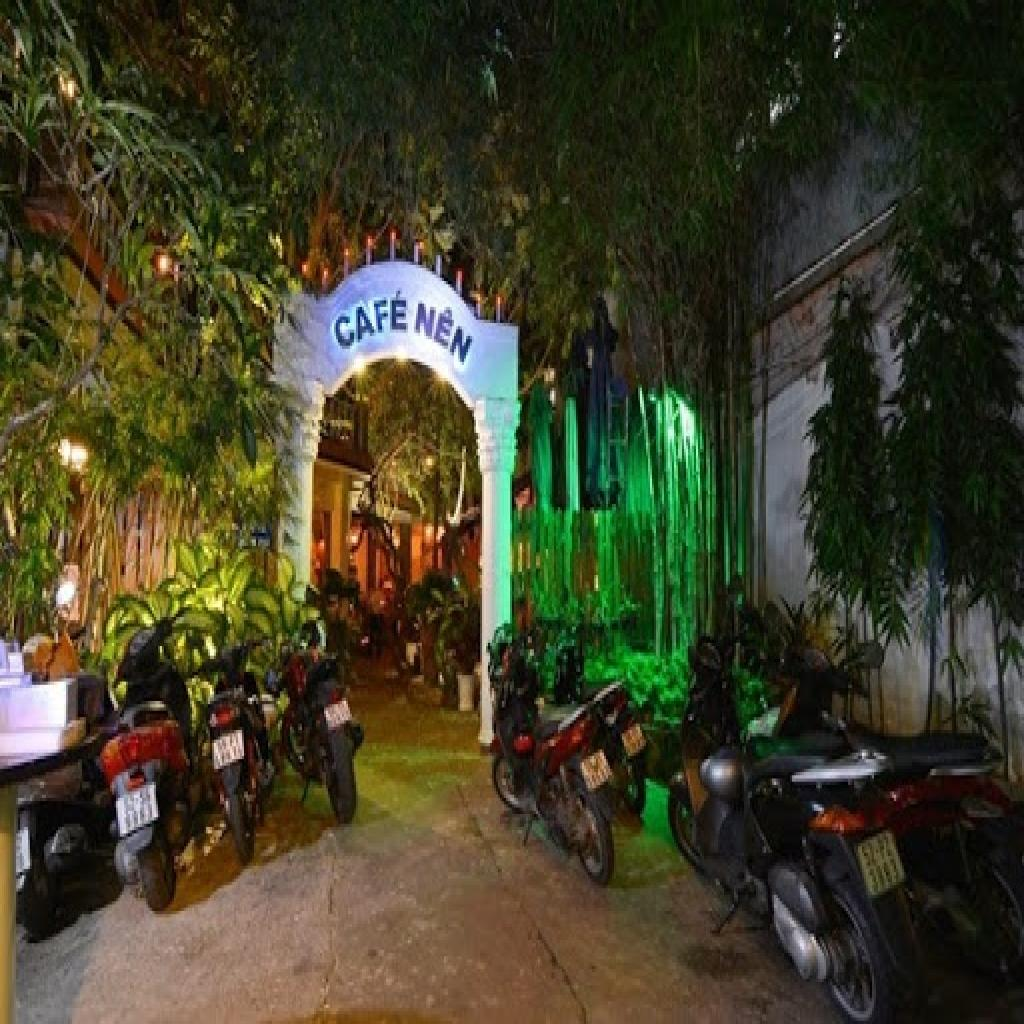text: (326, 278, 410, 362), (408, 284, 480, 375), (856, 830, 898, 872), (866, 856, 904, 898)
